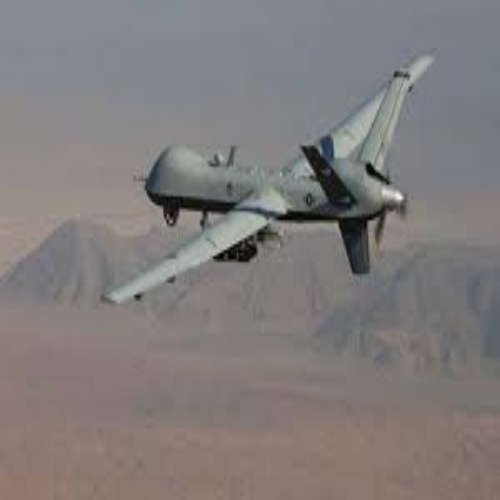uav482: (104, 52, 434, 307)
